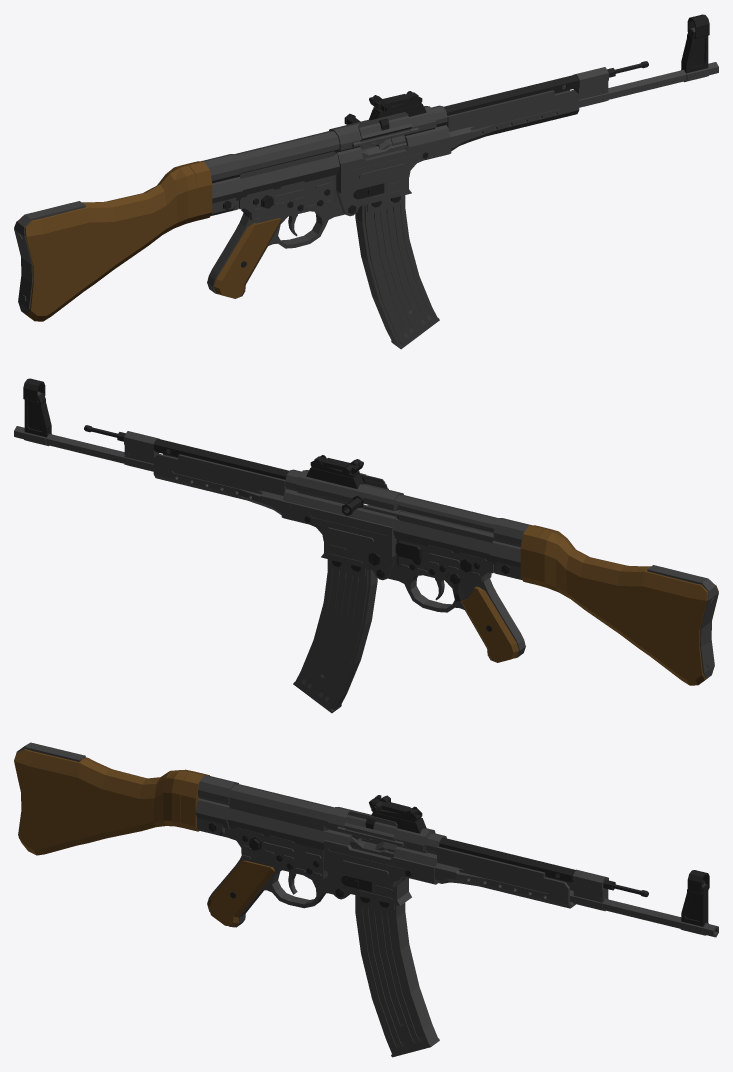
Rendered from STG 44.fbx.
The picture shows the model from 3 angles, top to bottom: view 1: azimuth 30°, elevation 25°; view 2: azimuth 150°, elevation 25°; view 3: azimuth 330°, elevation 25°; orthographic projection.
Visible parts, largest first — view 1: Cube.024; view 2: Cube.024; view 3: Cube.024.
Part boxes in pixels (<box>): Cube.024: <box>14,14,718,349</box>; Cube.024: <box>14,378,718,713</box>; Cube.024: <box>14,742,718,1057</box>.
Bounding box in the file's own units: 88.61 × 6.09 × 31.07.
